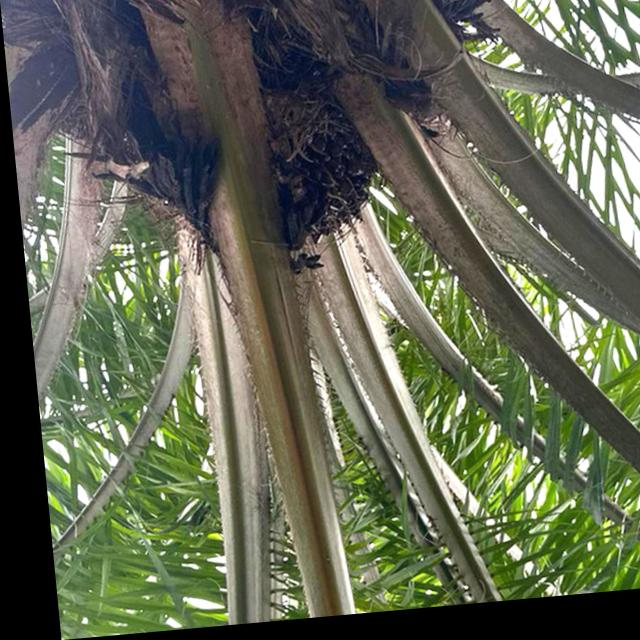almost: (245, 93, 386, 267)
